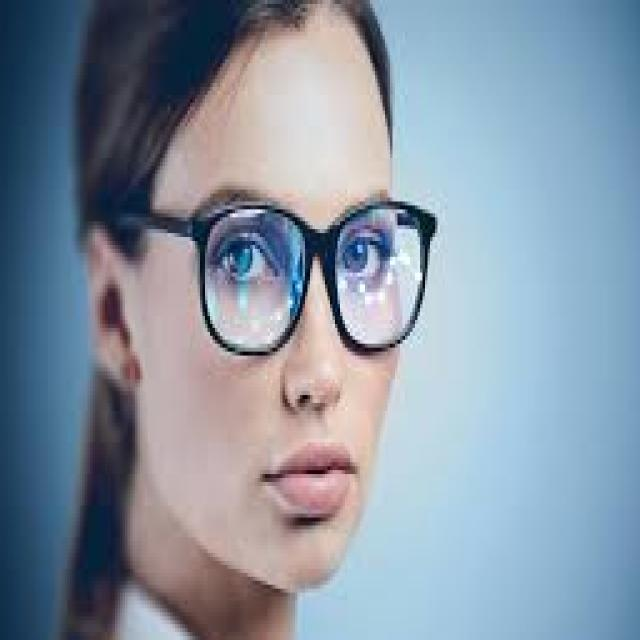Glasses: (145, 192, 438, 364)
